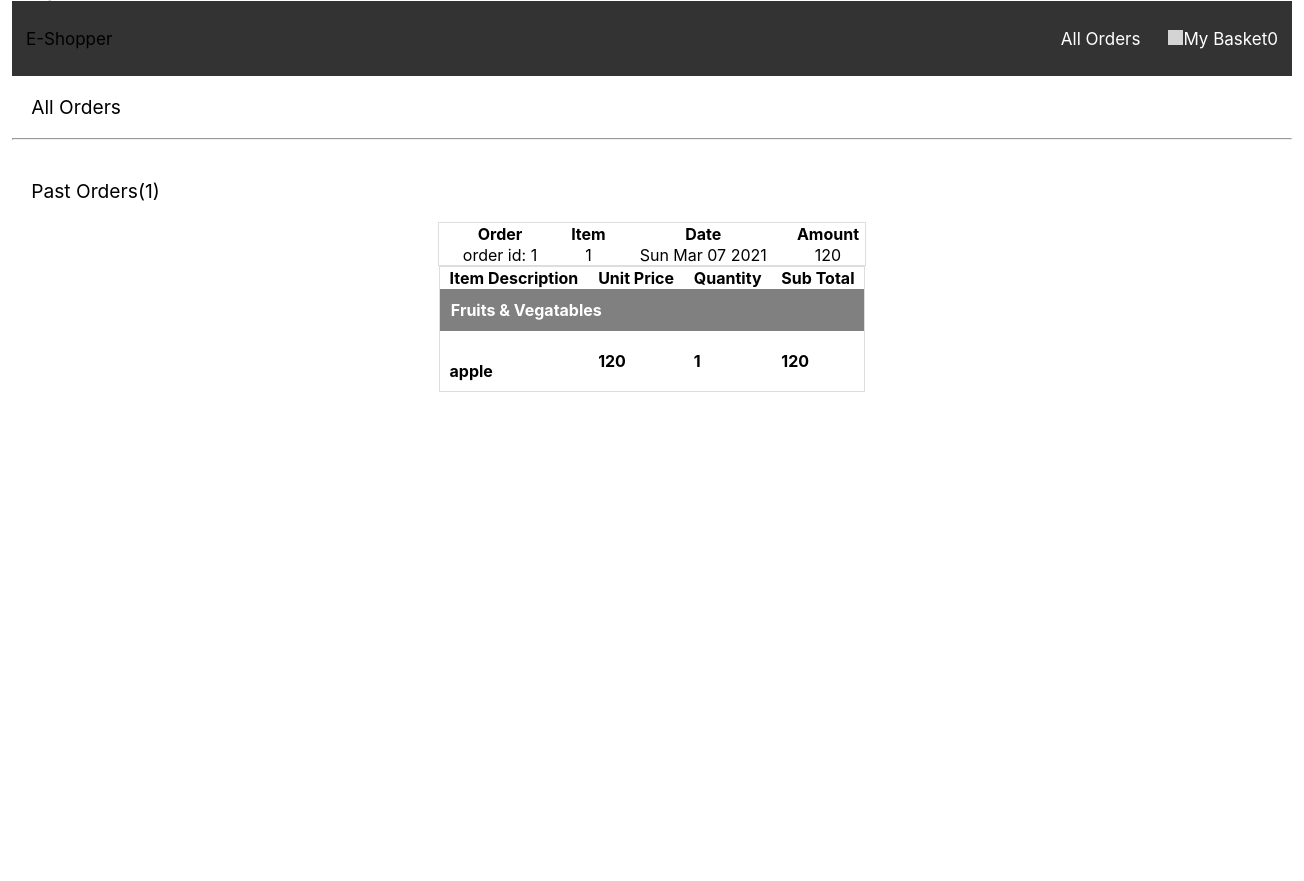
Scenario: App › should render all Cart page
Click the link "My Basket0" at (1223, 38), box [1168,28,1278,48]
(page scrolled)
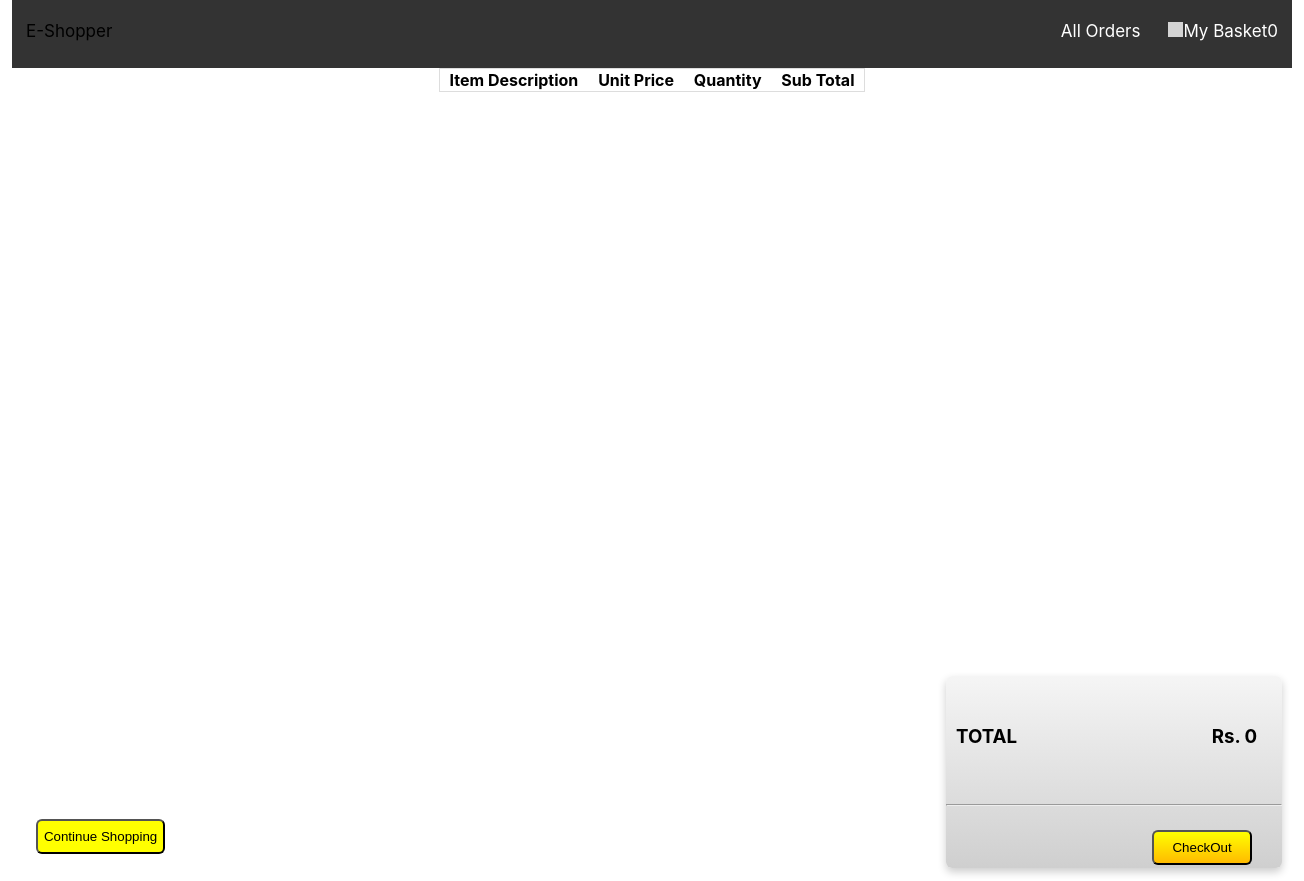
Result: the element with test id "Cart" is shown
